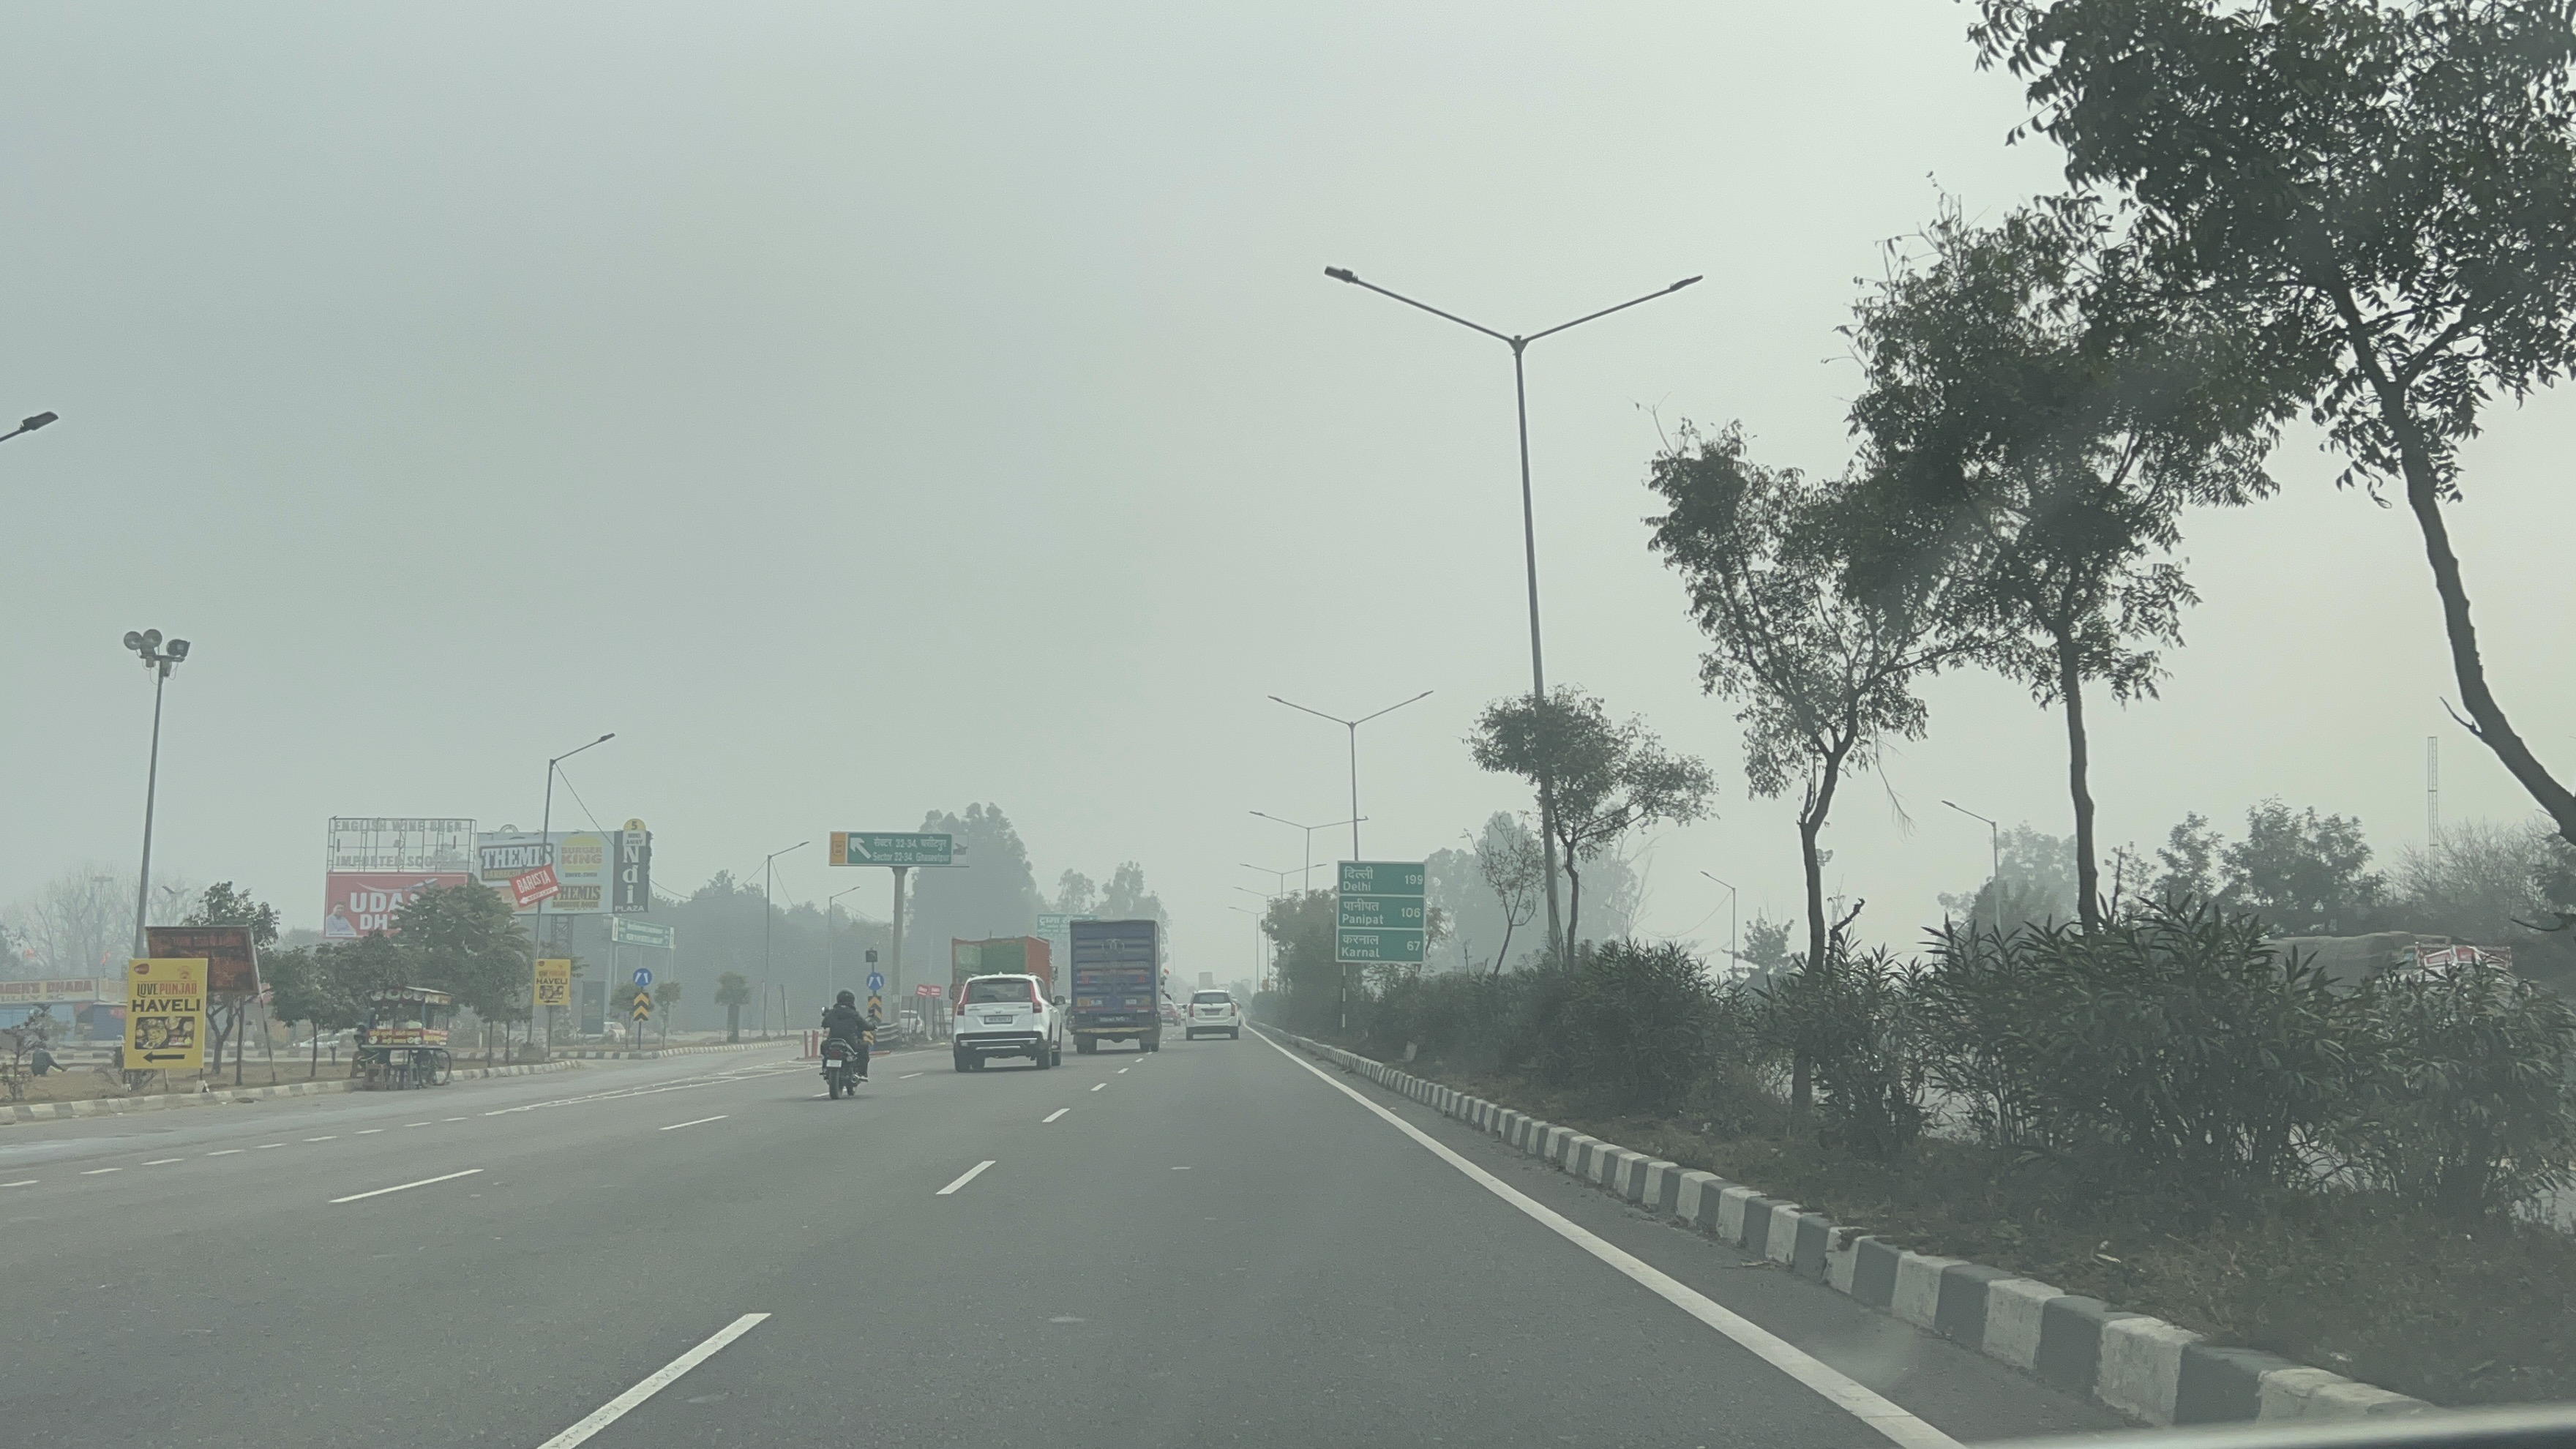General: (621, 994, 660, 1024)
Informatory: (1325, 849, 1435, 971), (837, 828, 961, 874)
Regulatory: (858, 964, 890, 998), (626, 961, 656, 993)
